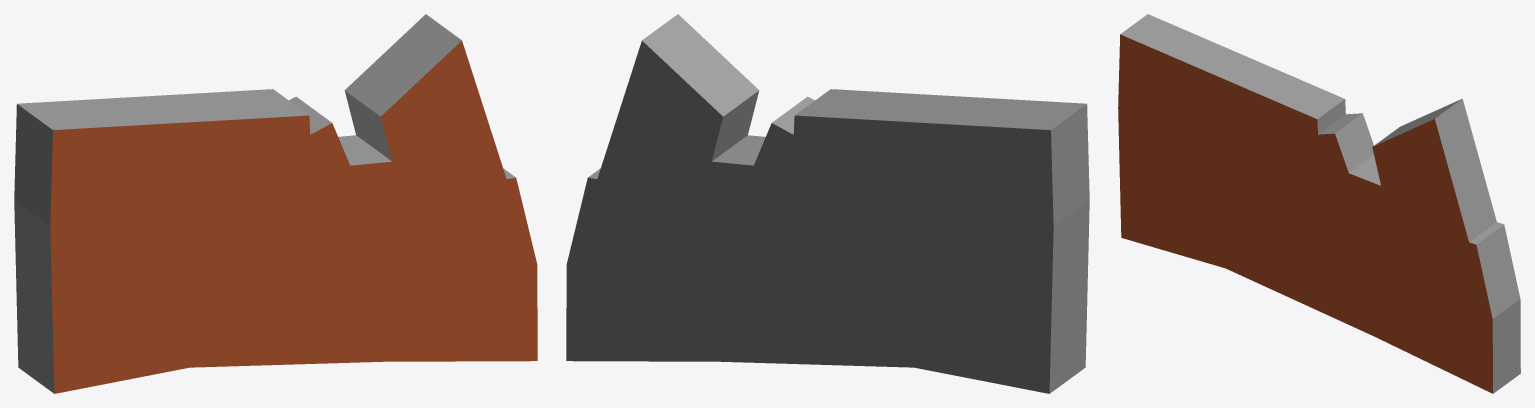
Rendered from construction_7084_assumed_A_Casa_h6m.obj.
3 views of the same model, side by side, from view 1: azimuth 30°, elevation 25°; view 2: azimuth 150°, elevation 25°; view 3: azimuth 330°, elevation 25° (orthographic). The views are drawn at different scales.
Visible parts, largest first — view 1: construction_7084_assumed_A_Casa; view 2: construction_7084_assumed_A_Casa; view 3: construction_7084_assumed_A_Casa.
Part boxes in pixels (left/top/right/bottom): construction_7084_assumed_A_Casa: left=14, top=14, right=537, bottom=393; construction_7084_assumed_A_Casa: left=566, top=14, right=1089, bottom=393; construction_7084_assumed_A_Casa: left=1118, top=14, right=1520, bottom=393.
Bounding box in the file's own units: 46.74 × 32 × 6.
